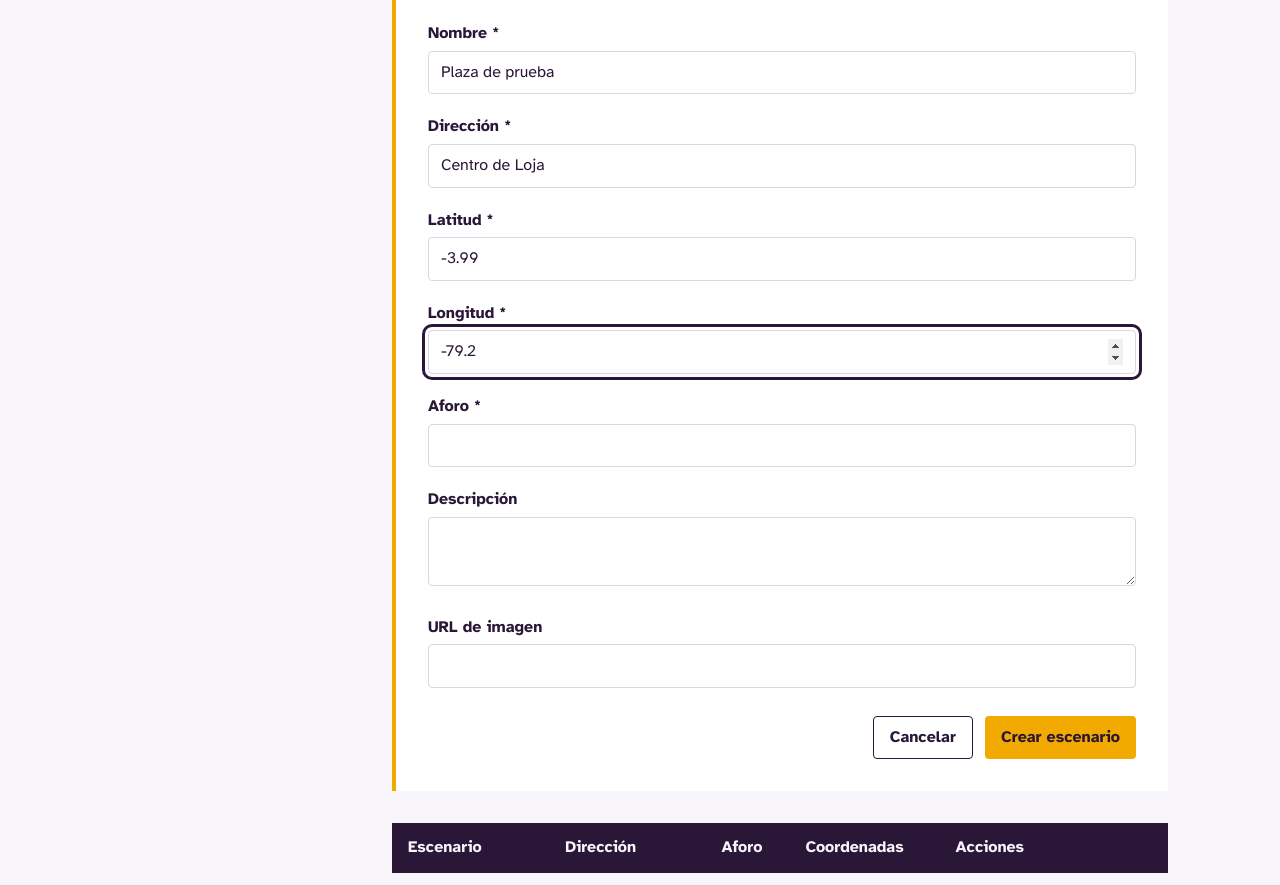
it: AdminVenuesPage › lista escenarios y permite crear, editar y eliminar con confirmación
Earlier steps of the test are not shown.
Later steps or results of the test are not shown.
(page scrolled)
Type "350" into the number field labelled "Aforo". click: point(782, 445)
box: top-left (428, 424), bottom-right (1136, 467)
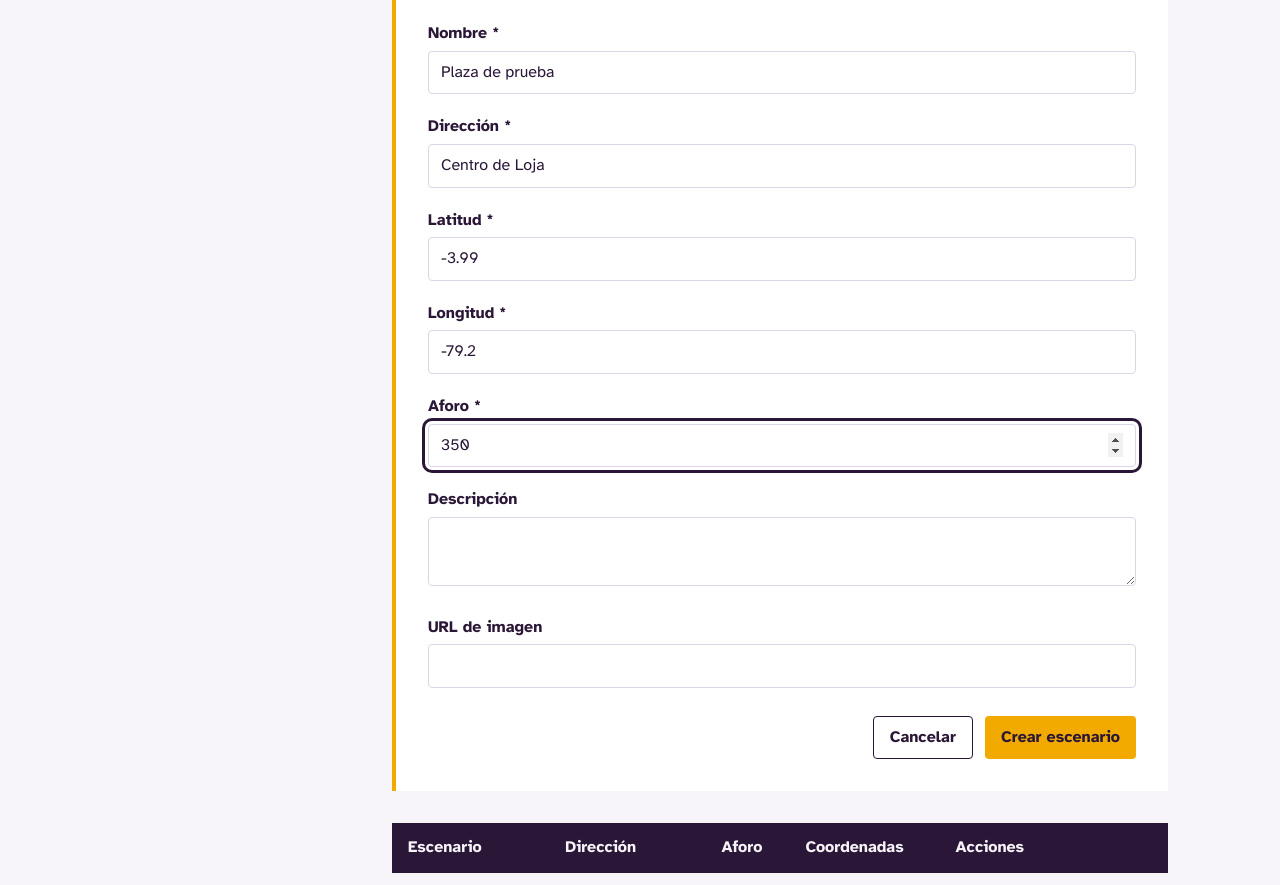
Type "Escenario al aire libre" into the text box labelled "Descripción". click: point(782, 551)
box: top-left (428, 517), bottom-right (1136, 586)
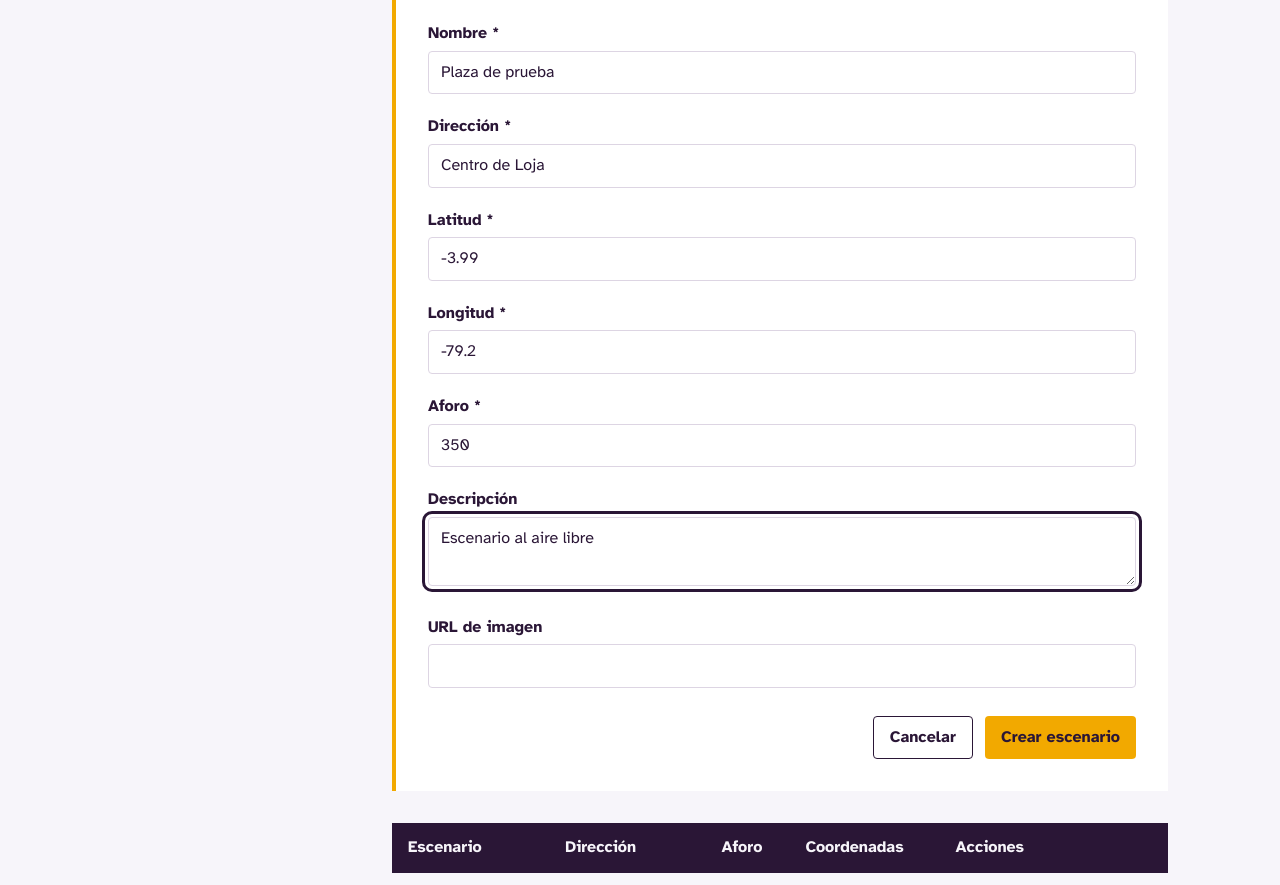
Click the button "Crear escenario". click: point(1060, 738)
box: top-left (985, 716), bottom-right (1136, 759)
(page scrolled)
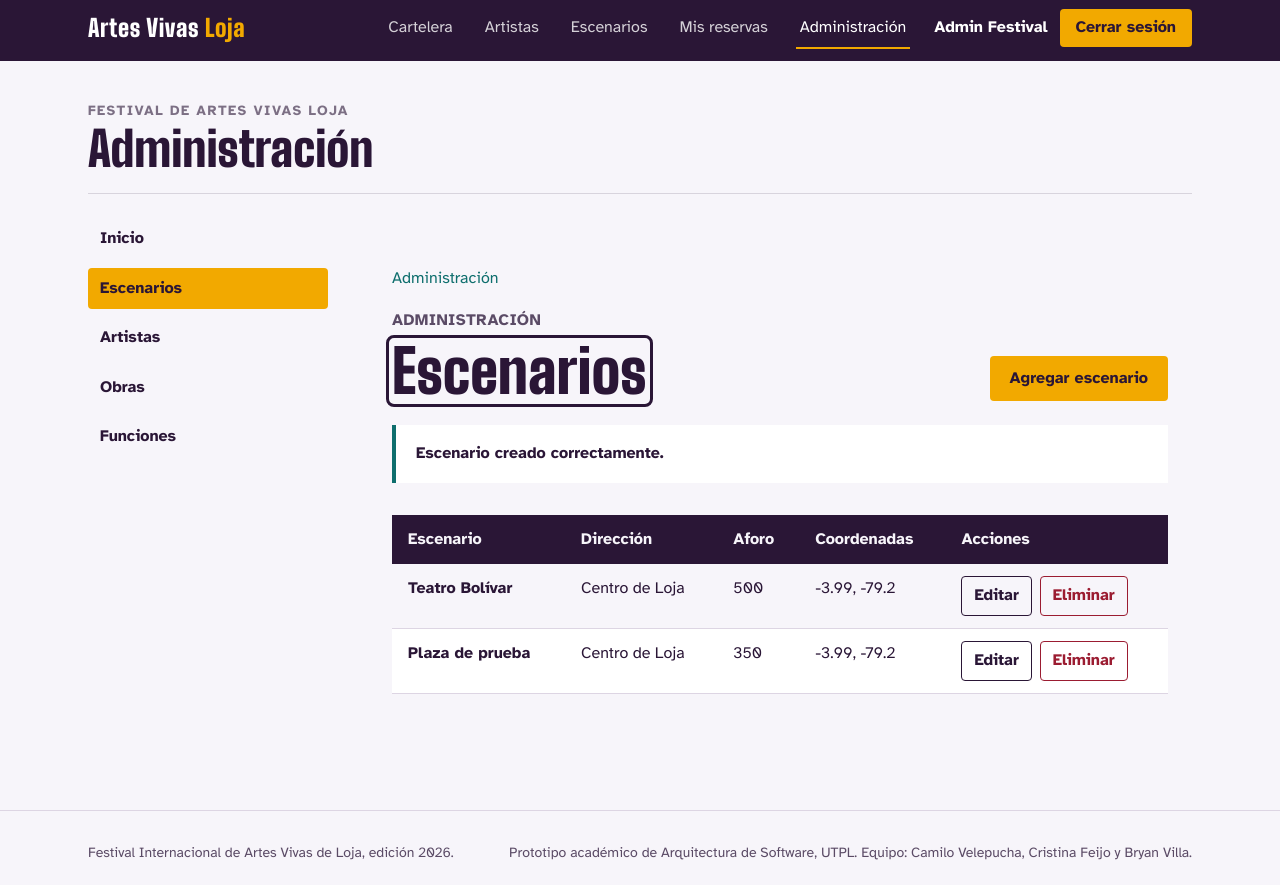
Now the message reads "Escenario creado correctamente.", box top-left (416, 443), bottom-right (664, 463)
Now the text "350" is shown, box top-left (717, 628), bottom-right (799, 693)
Click the button "Editar" in the row of "Plaza de prueba". click: point(997, 661)
box: top-left (961, 641), bottom-right (1032, 681)
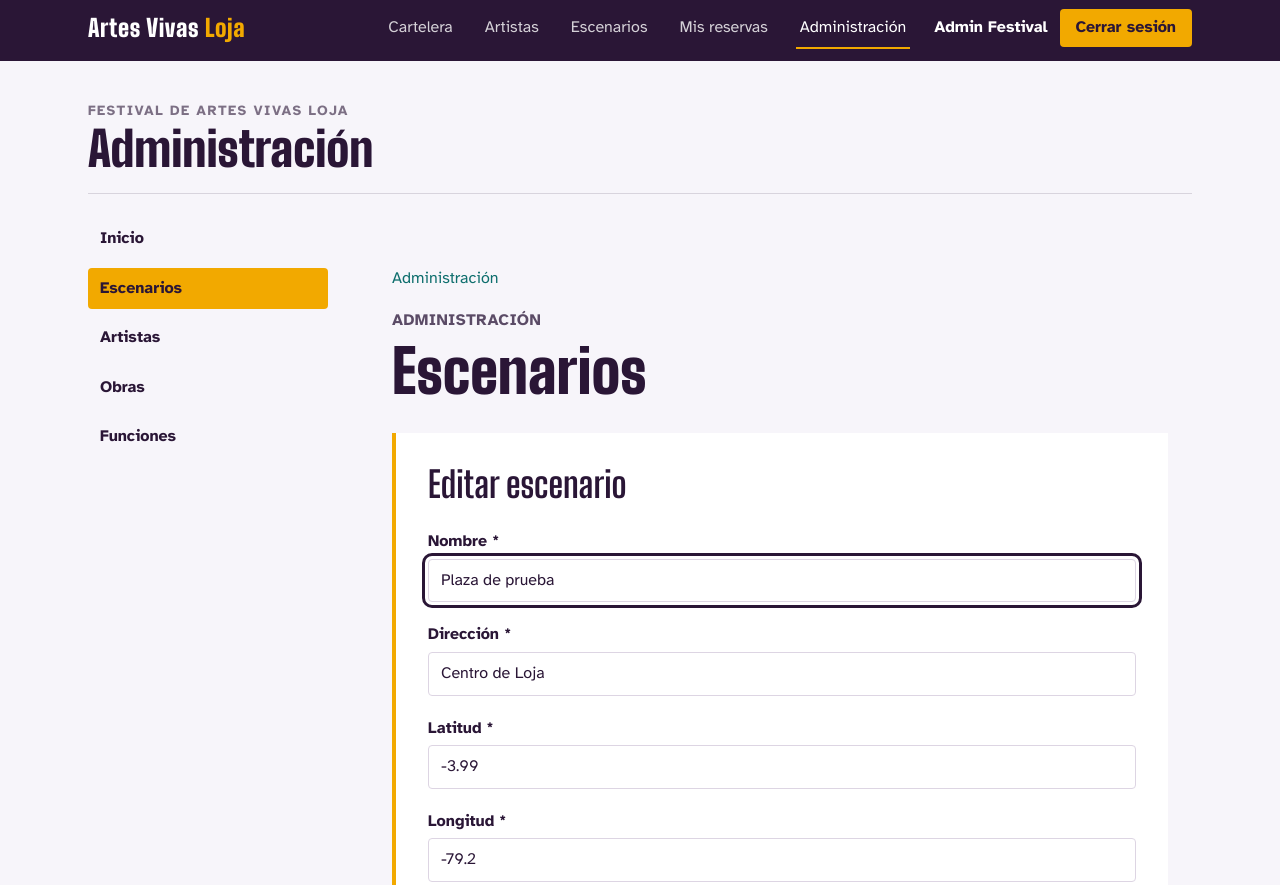
Replace the text in the field labelled "Nombre" with "Plaza actualizada". click: point(782, 581)
box: top-left (428, 559), bottom-right (1136, 602)
(page scrolled)
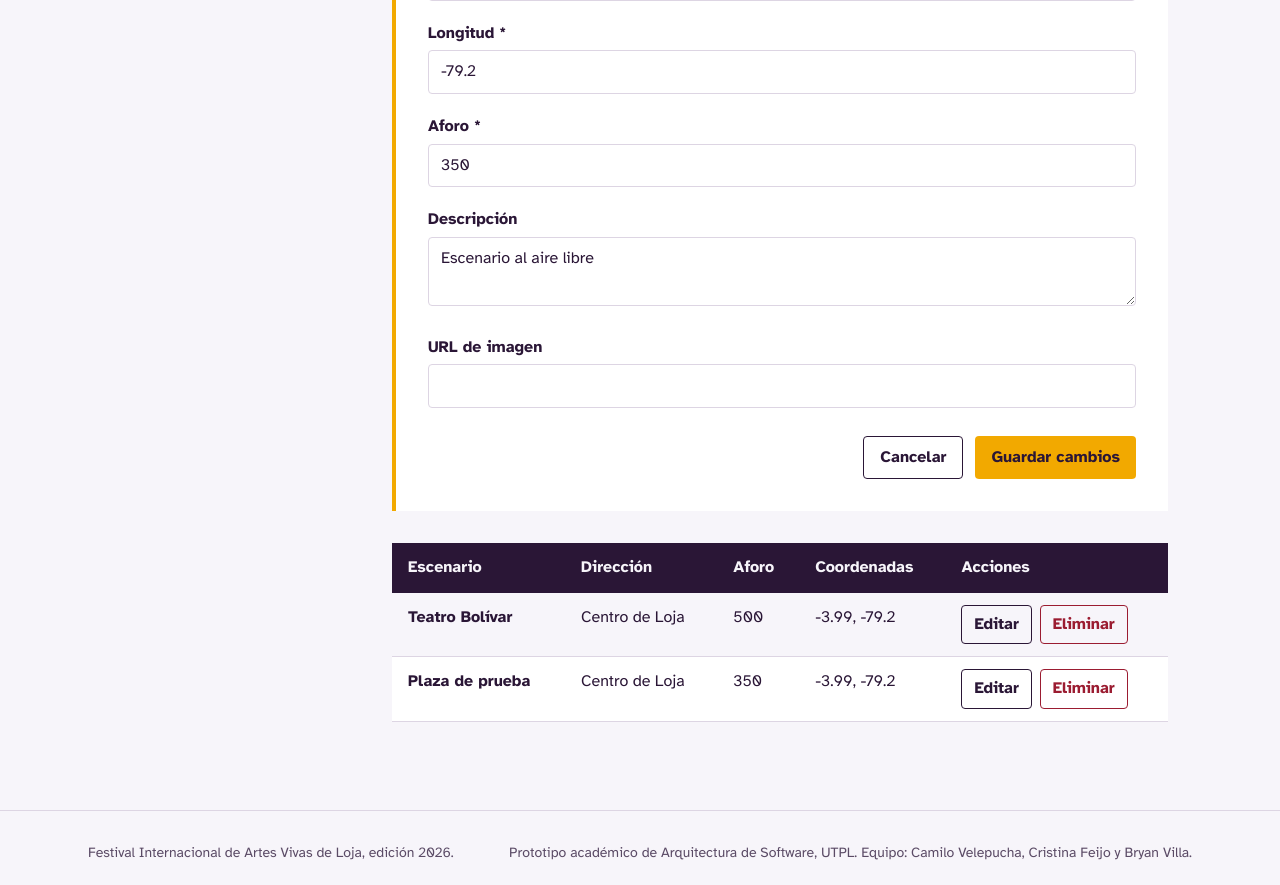
Click the button "Guardar cambios". click: point(1056, 458)
box: top-left (976, 436), bottom-right (1136, 479)
(page scrolled)
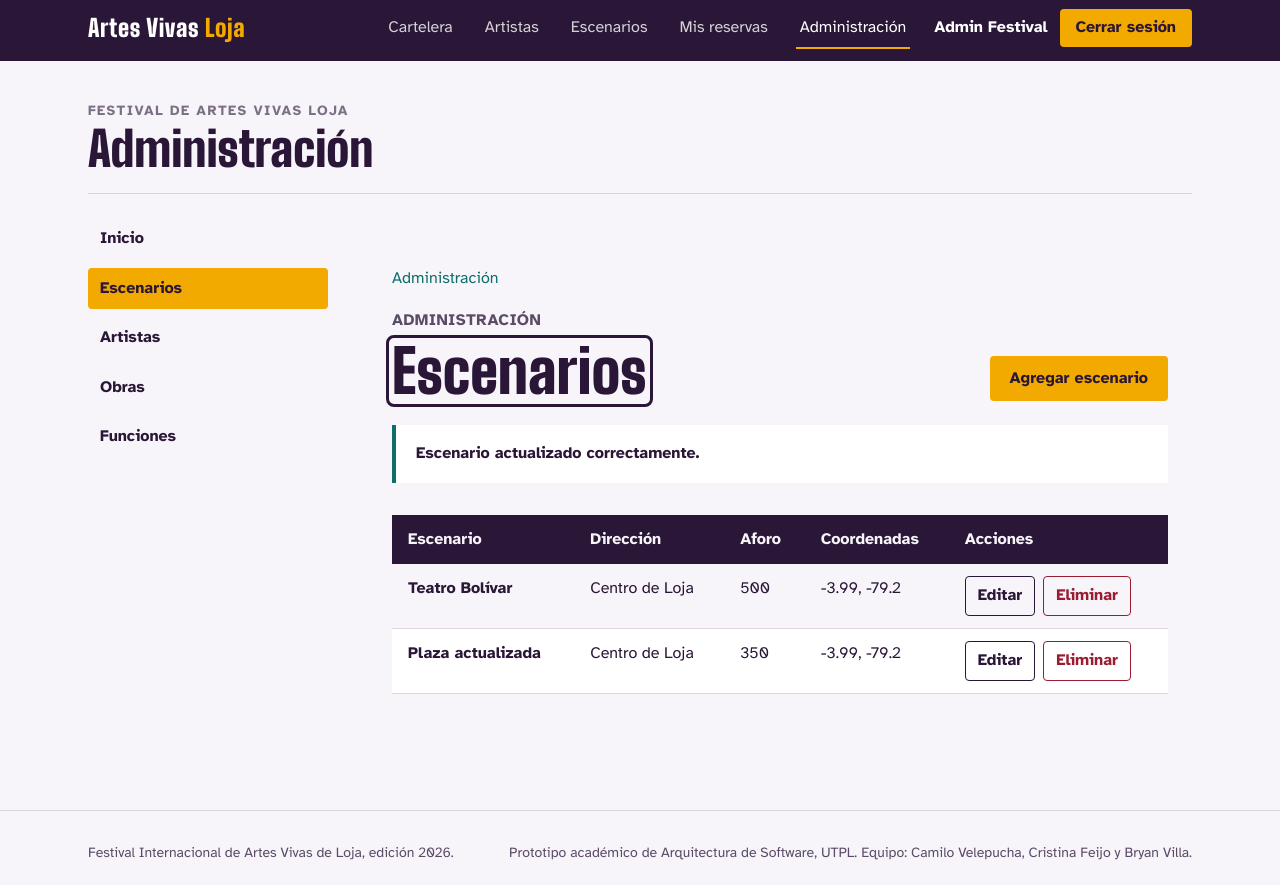
Now the cell "Plaza actualizada" is shown, box top-left (392, 628), bottom-right (574, 693)
